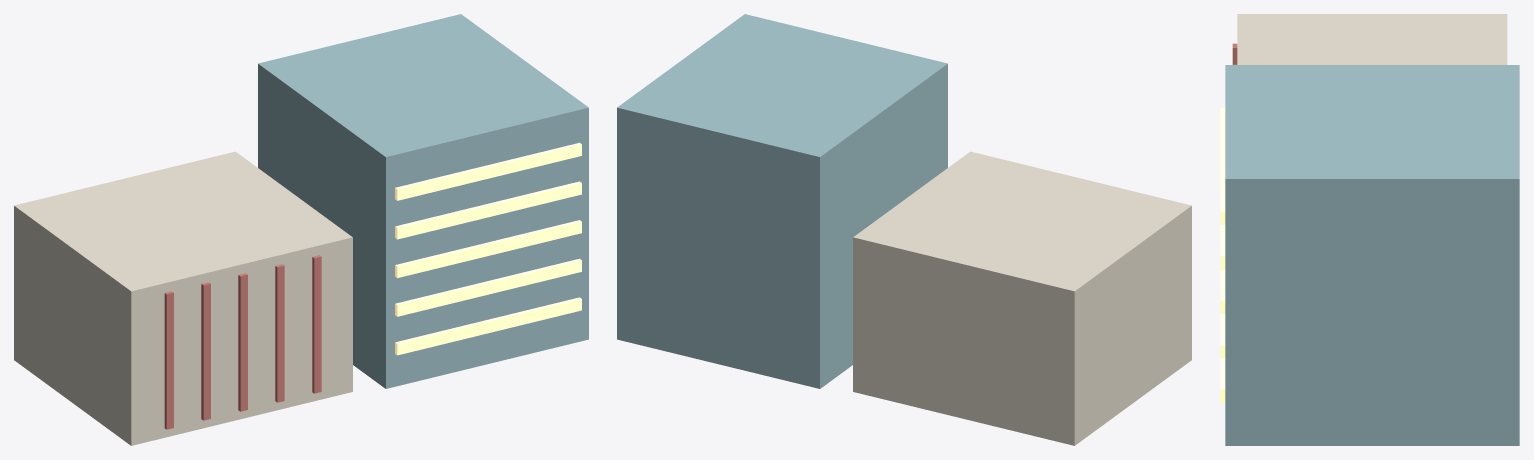
The model's file is digital.glb.
3 views of the same model, side by side, from view 1: azimuth 30°, elevation 25°; view 2: azimuth 150°, elevation 25°; view 3: azimuth 270°, elevation 25° (orthographic). The views are drawn at different scales.
Parts seen in each view (by area): view 1: digital; view 2: digital; view 3: digital.
Part boxes in pixels (x1,y1,x2,y2): digital: [14, 14, 588, 445]; digital: [617, 14, 1191, 445]; digital: [1220, 14, 1519, 445].
Size of the model in its own units: 24.5 by 12 by 12.2.
